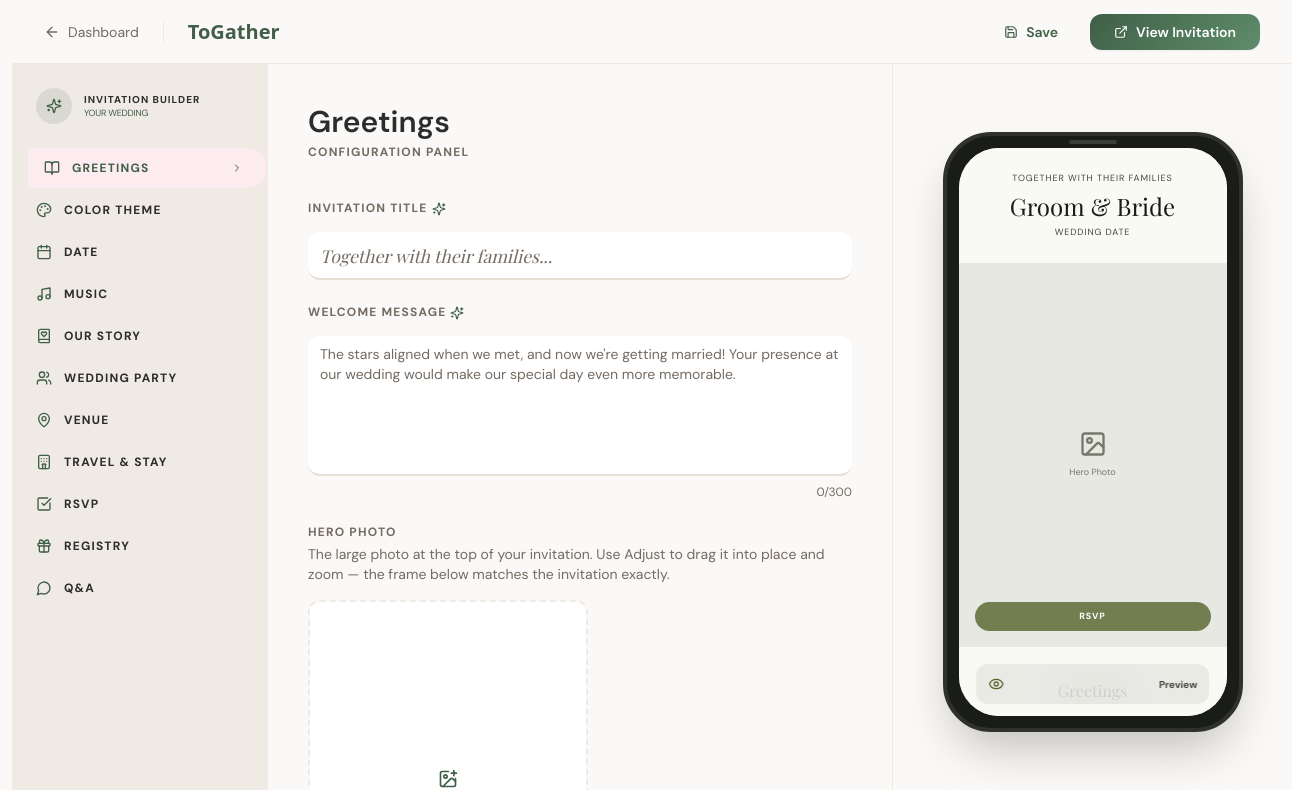
Test: Wedding Party tab › supports a custom role via Other
This screenshot has width=1292, height=790.
Expected: the heading "Invitation Title" is shown, left=308, top=200, right=446, bottom=216
Click the button "Wedding Party". click: (140, 378)
box: left=12, top=358, right=267, bottom=398
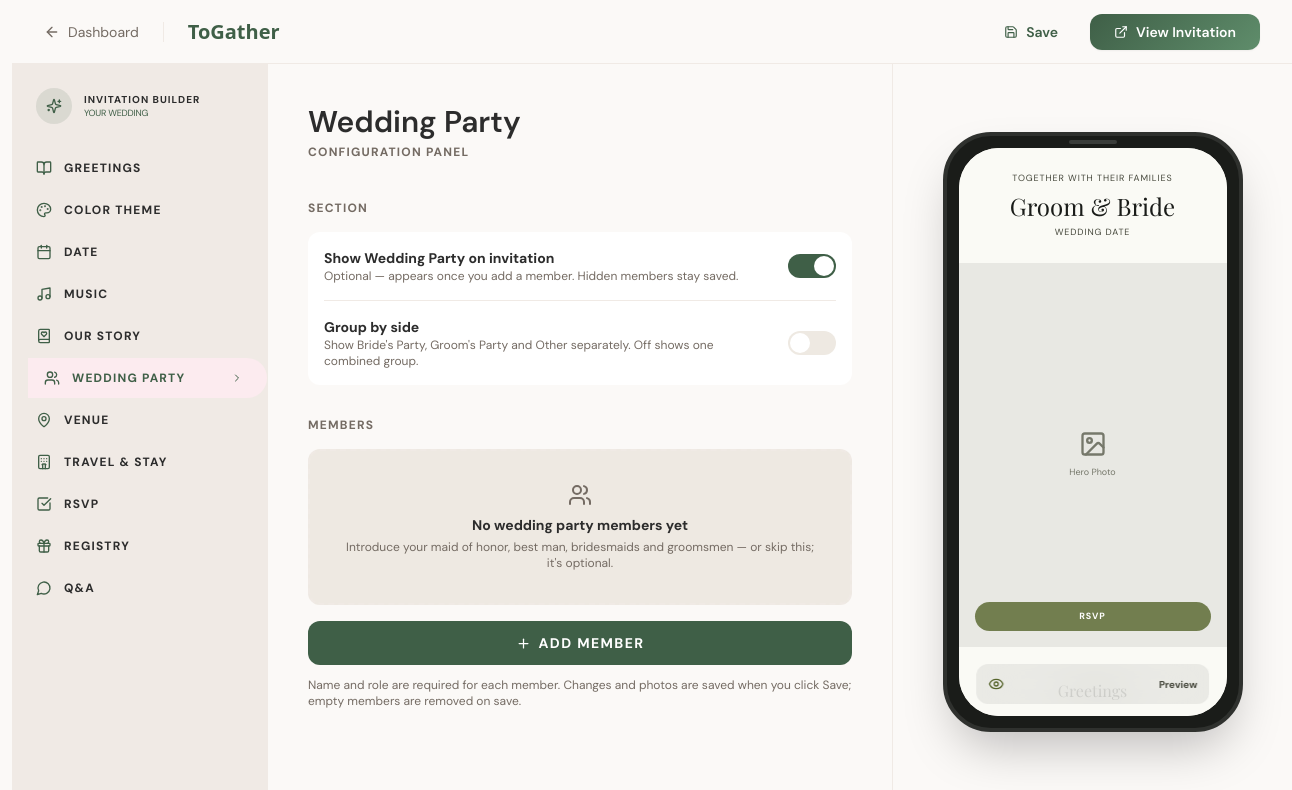
Now the text "Show Wedding Party on invitation" is shown, box left=324, top=249, right=554, bottom=267
Click the button "Add Member". click: (580, 643)
box: left=308, top=621, right=852, bottom=665
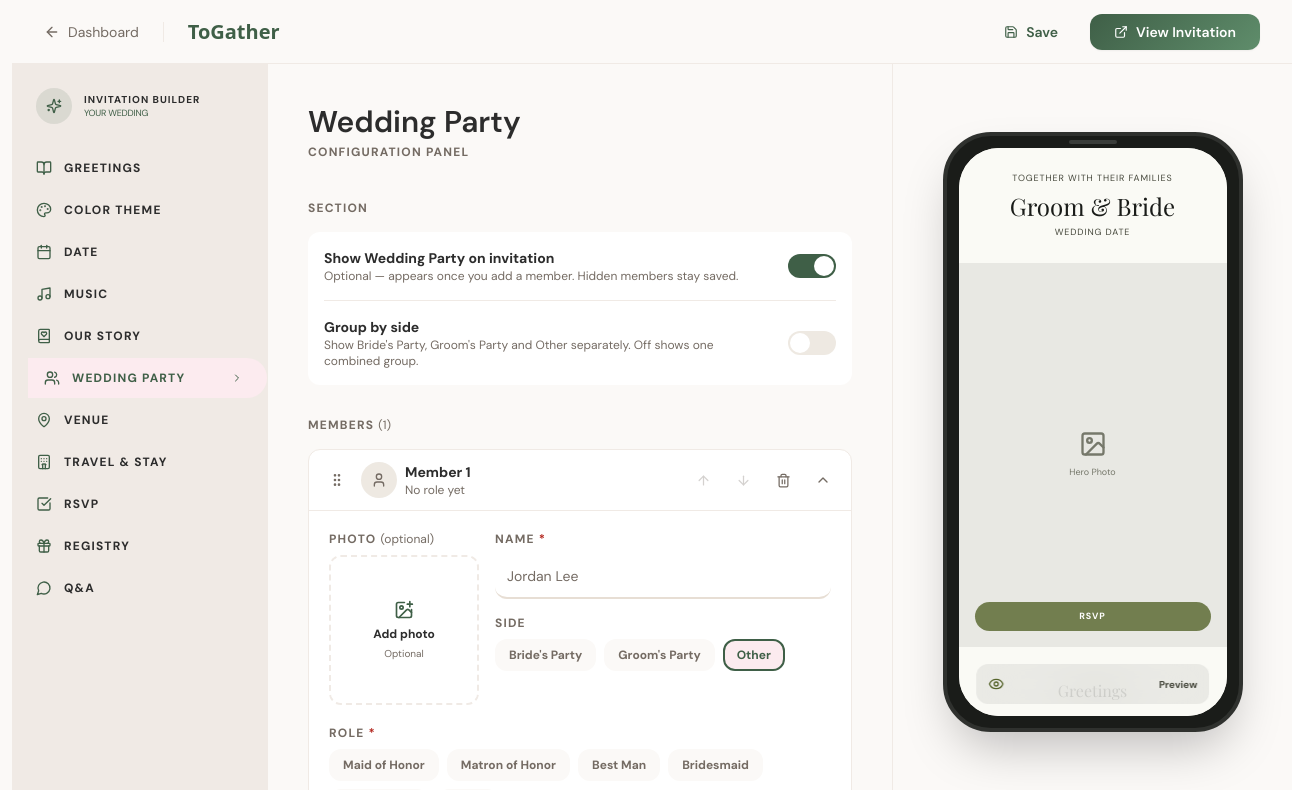
Type "Mia" into the field labelled "Name *". click: (663, 577)
box: left=495, top=555, right=831, bottom=599
(page scrolled)
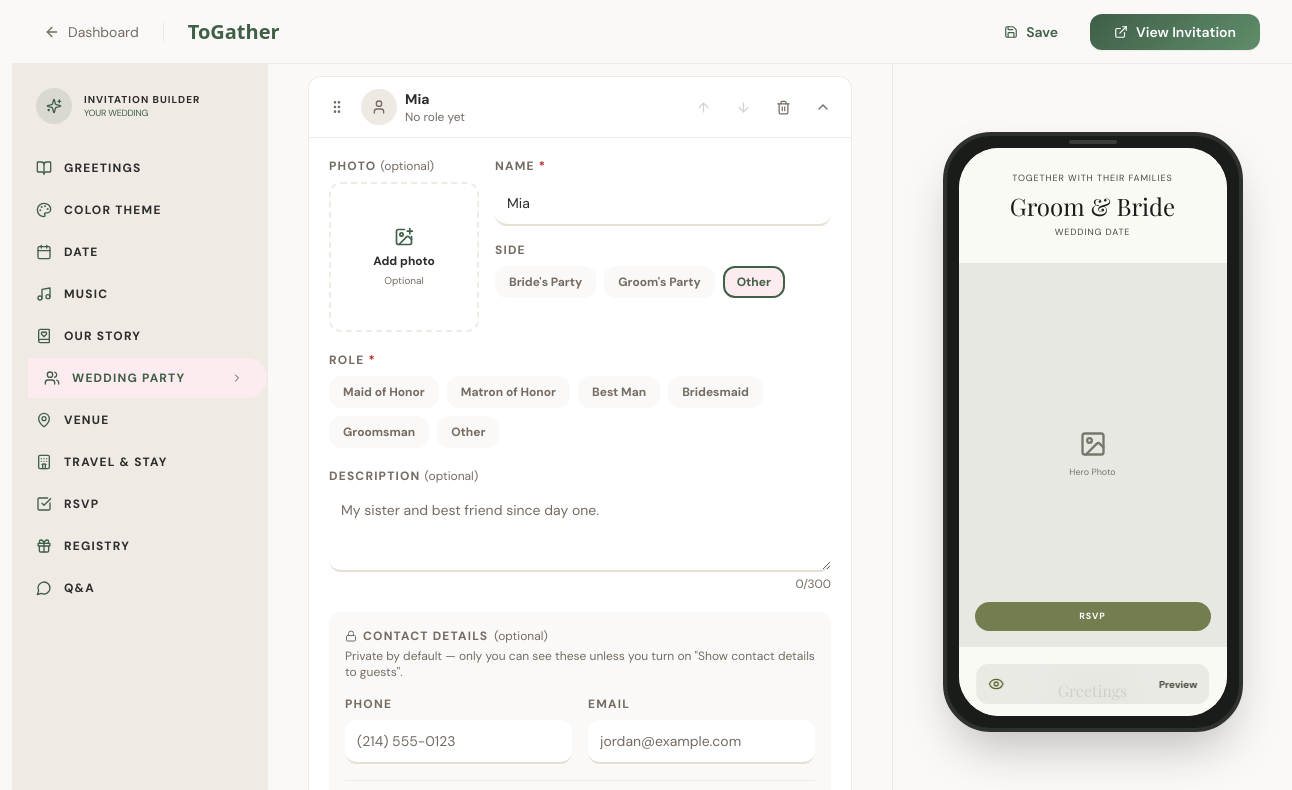
Click the 2nd radio button labelled "Other". click: (468, 432)
box: left=437, top=416, right=499, bottom=448
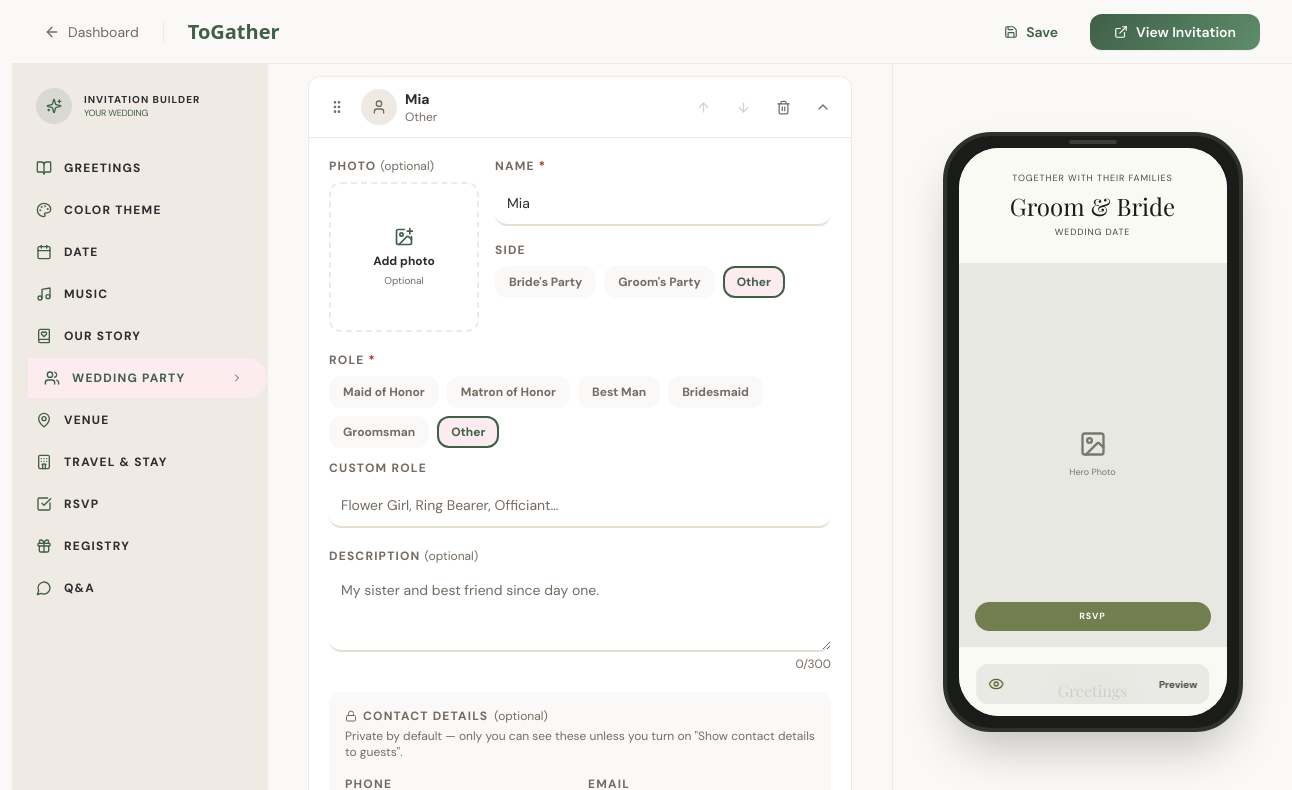
Type "Flower Girl" into the field labelled "Custom Role". click: (580, 506)
box: left=329, top=484, right=831, bottom=528
(page scrolled)
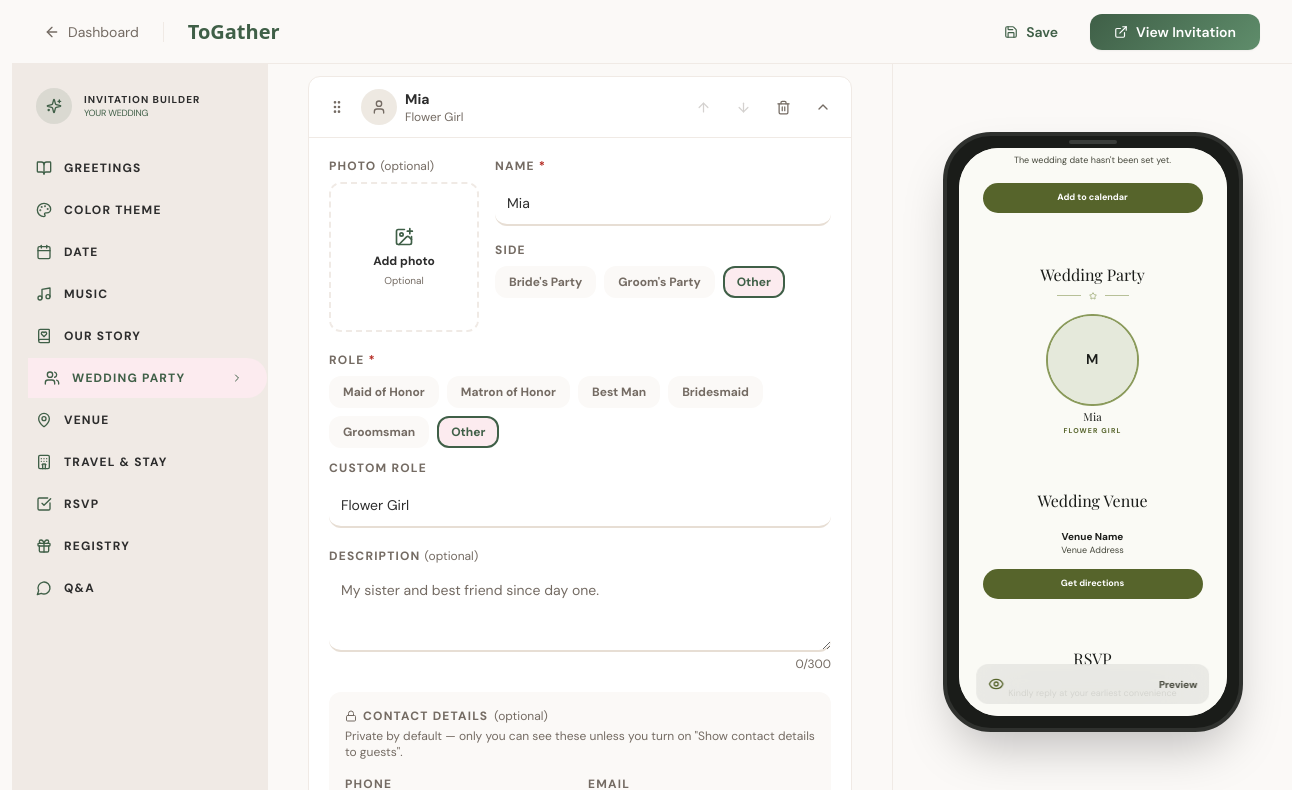
Now the text "Flower Girl" below "The wedding date hasn't been set yet." is shown, box left=1064, top=426, right=1121, bottom=435
